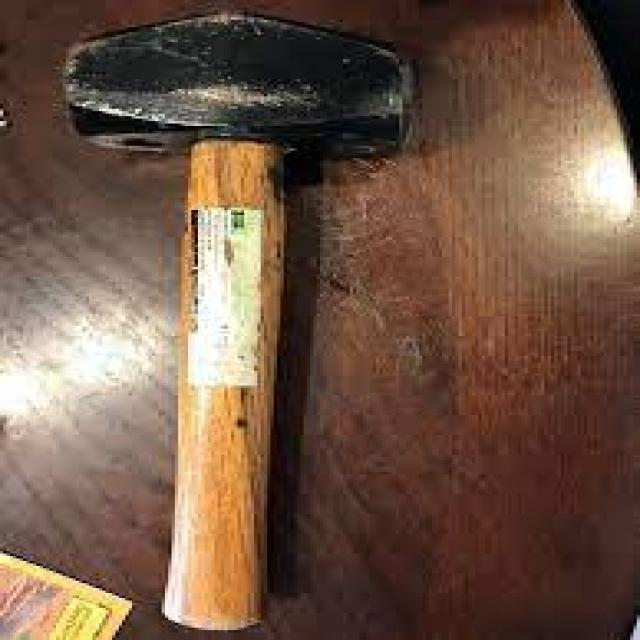hammer: (46, 7, 422, 640)
